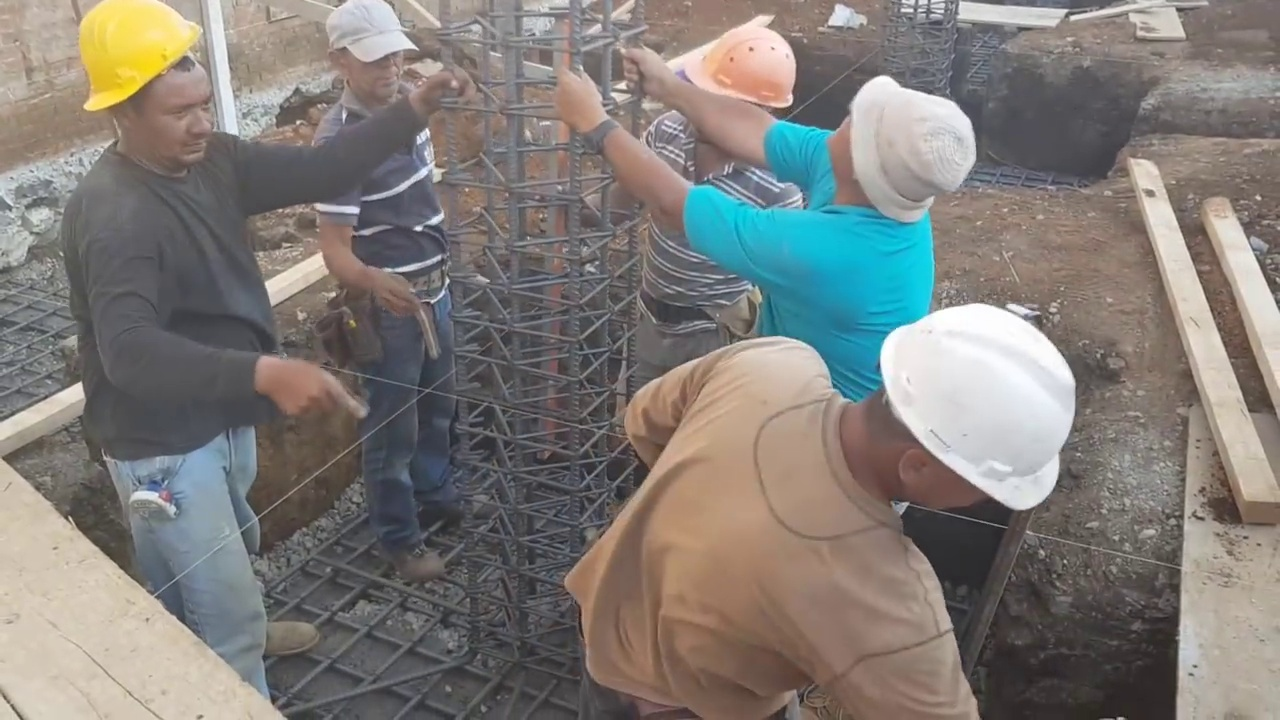helmet: (890, 316, 1091, 528), (67, 3, 197, 113), (664, 24, 801, 113)
helmet-off: (842, 90, 999, 223), (319, 0, 418, 111)
helmet-on: (824, 318, 1083, 545), (66, 6, 226, 190), (652, 17, 799, 144)
person: (72, 0, 383, 690), (575, 316, 1085, 720), (562, 52, 1006, 407), (303, 0, 460, 609), (636, 21, 800, 390)
